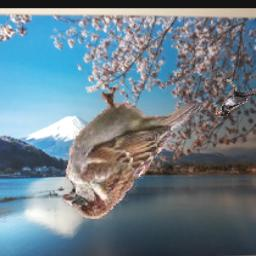Crow: (212, 79, 256, 118)
Sparrow: (63, 87, 204, 219)
